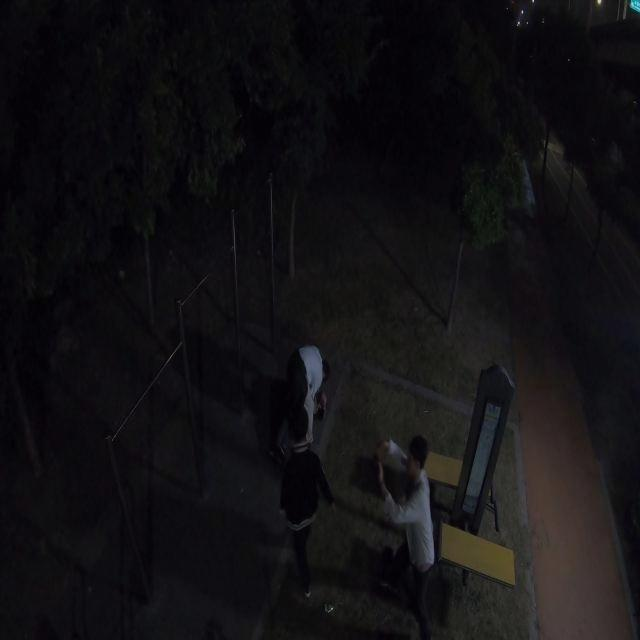fight: (267, 341, 337, 460)
